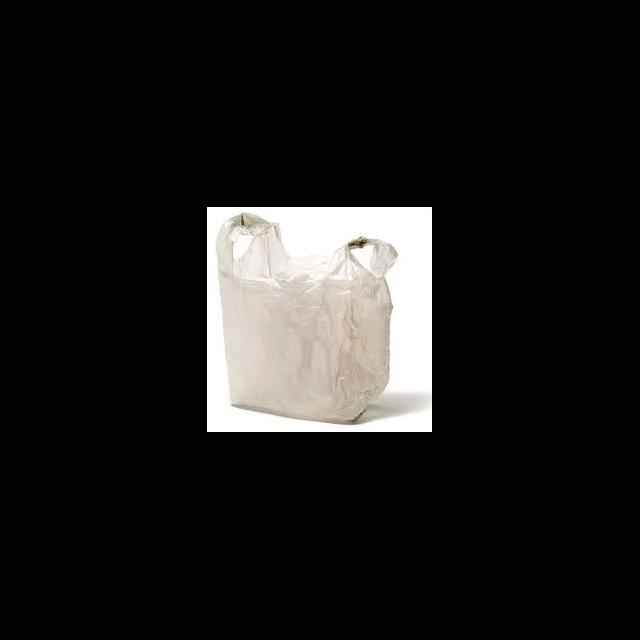plastic: (215, 212, 398, 424)
